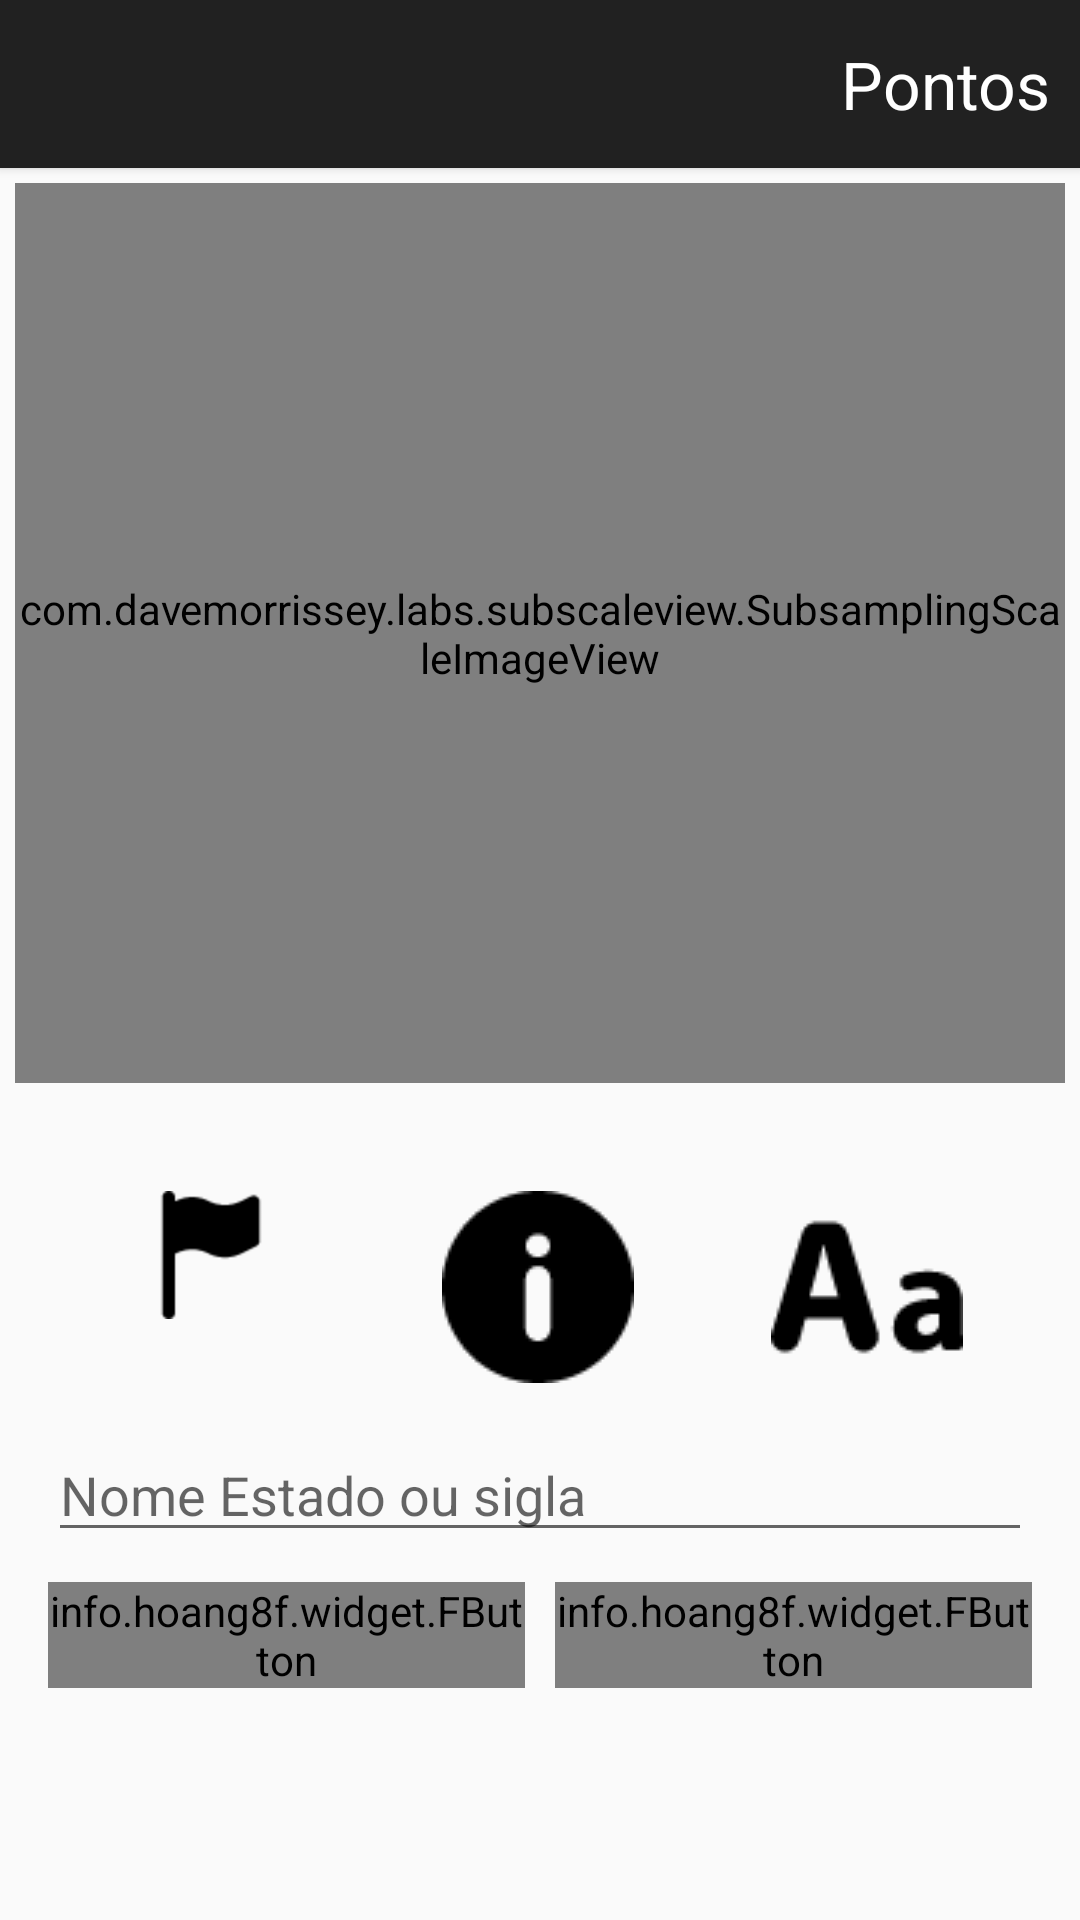

Named icons in this screenshot (1080×1920) and their bounding boxes, (x1, y1, x2, y2):
bandeira: (161, 1191, 261, 1319)
info: (442, 1191, 634, 1383)
letras: (771, 1220, 963, 1354)
